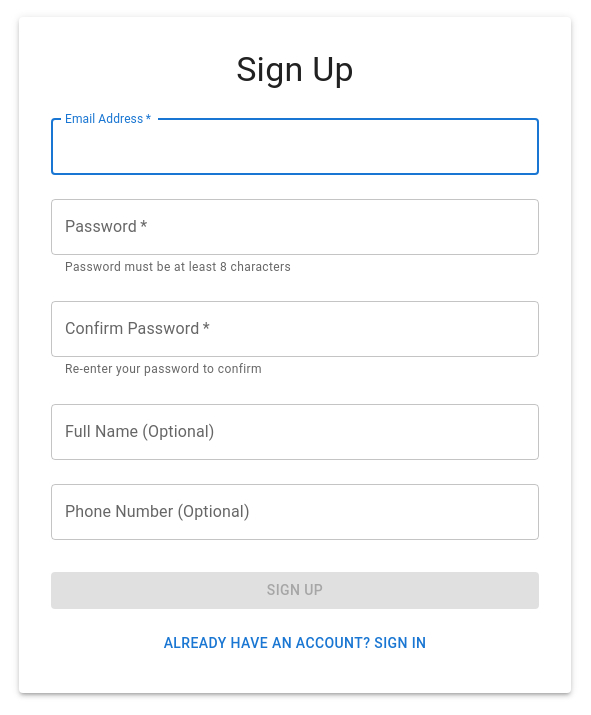
RegisterPage - Password Confirmation › should validate passwords in real-time as user types
# Type password first
Type "password123" into the password field labelled "Password *".
click(295, 226); type("password123")  # box top-left (51, 198), bottom-right (539, 254)
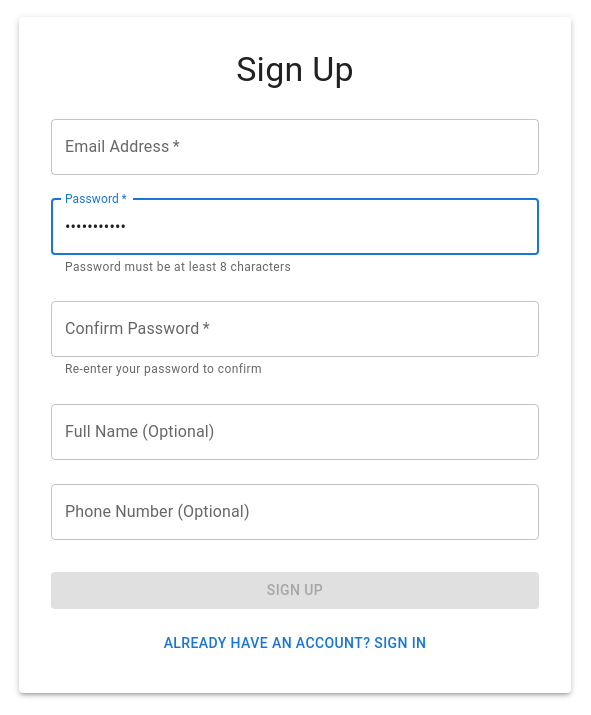
# Type matching confirm password
Type "password123" into the password field labelled "Confirm Password *".
click(295, 329); type("password123")  # box top-left (51, 301), bottom-right (539, 357)
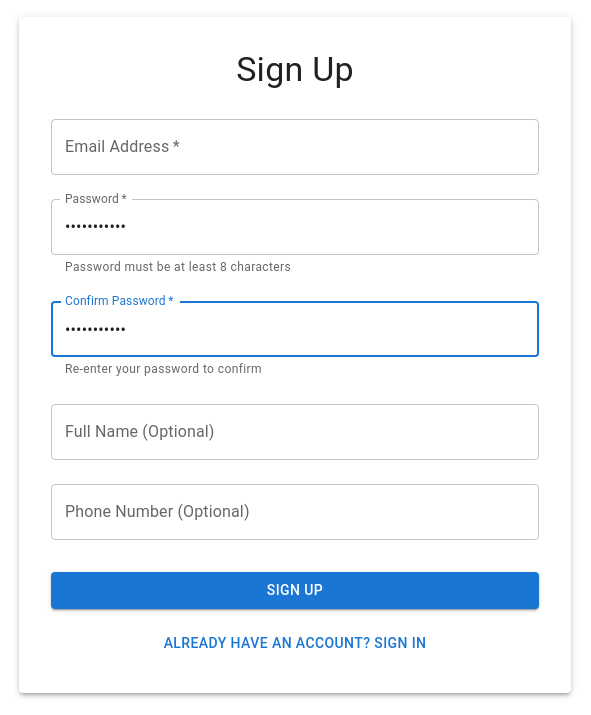
Check: the text "passwords do not match" is not shown
# Change confirm password to mismatch
Type "different" into the password field labelled "Confirm Password *".
click(295, 329); type("different")  # box top-left (51, 301), bottom-right (539, 357)
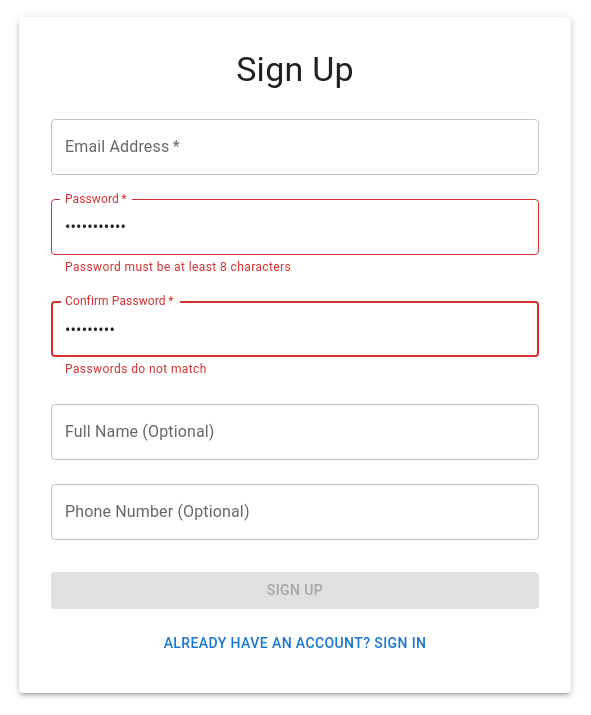
Check: the text "Passwords do not match" is shown, box top-left (65, 362), bottom-right (207, 376)
